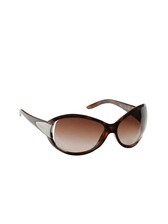glasses: (16, 96, 149, 158)
